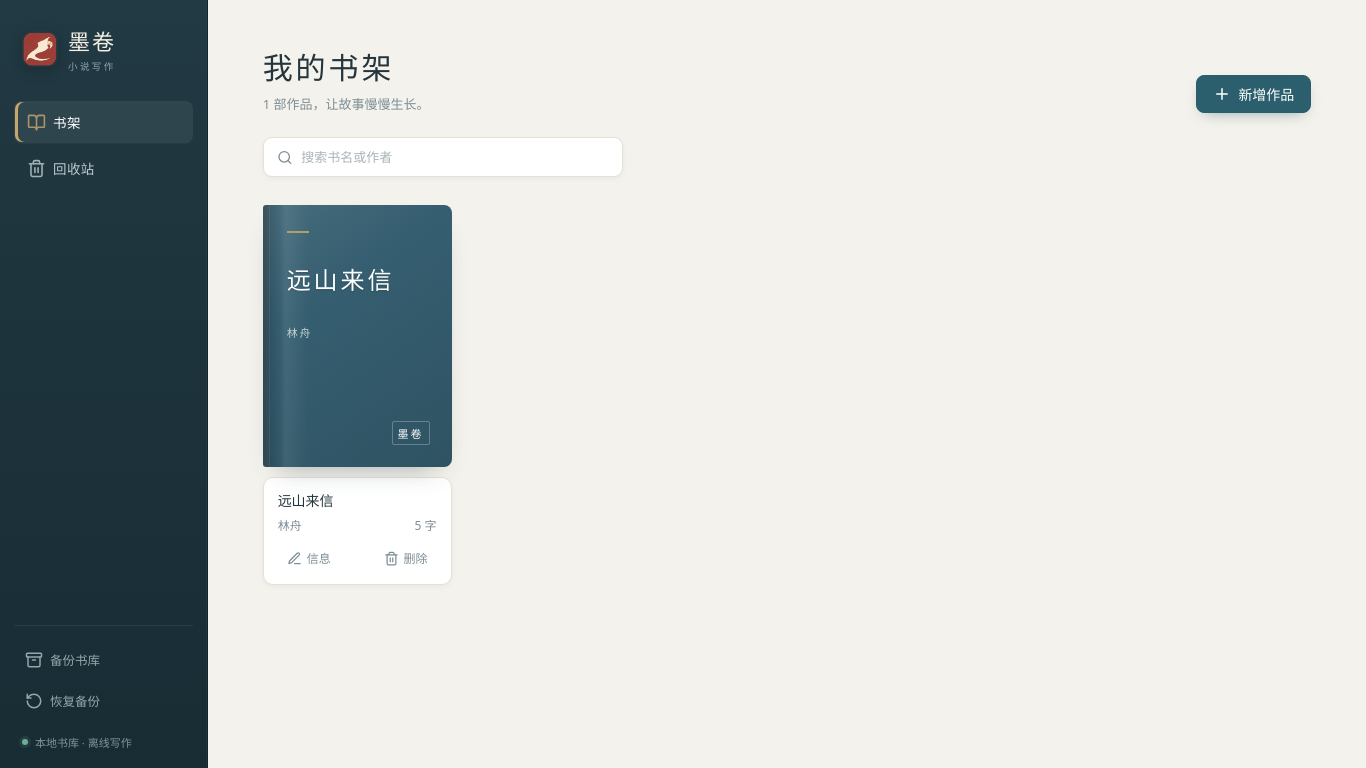
Test: writing workspace › recycling the selected volume hides its chapter editor
Click the button with aria-label "打开 远山来信" at (357, 336), box [263,205,452,467]
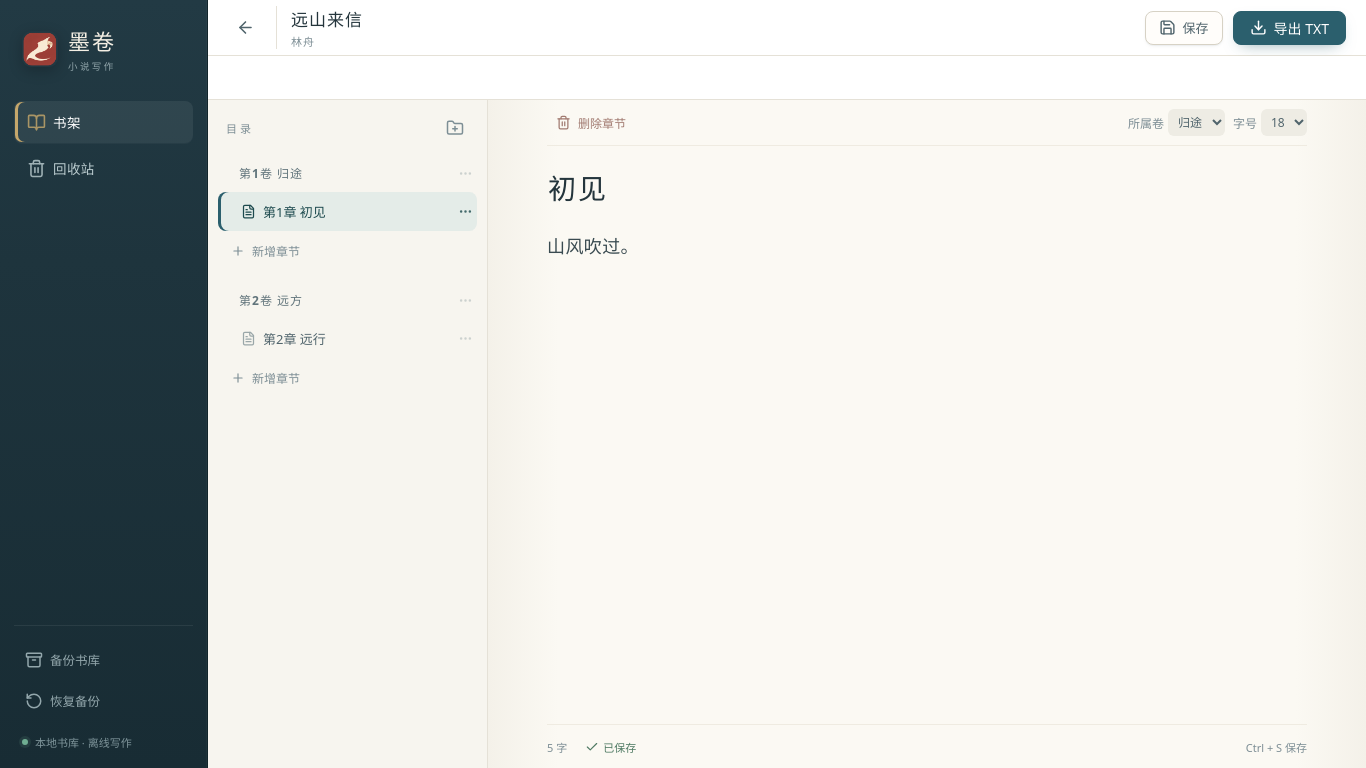
Expected: the text box named "章节正文" is shown, [547,220,1307,724]
Click the button named "卷操作 归途" at (466, 173), box [454,162,477,184]
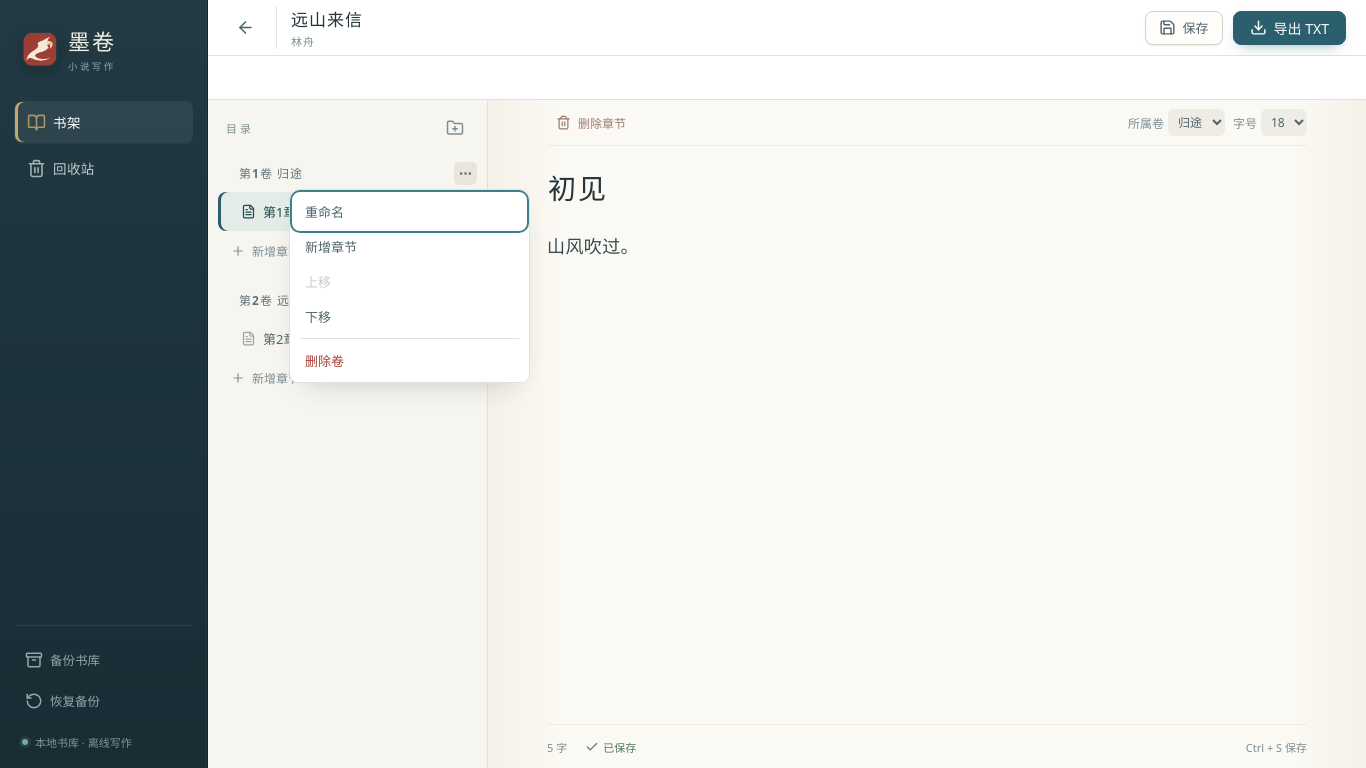
Click the menu item "删除卷" at (410, 360), box [294,342,525,378]
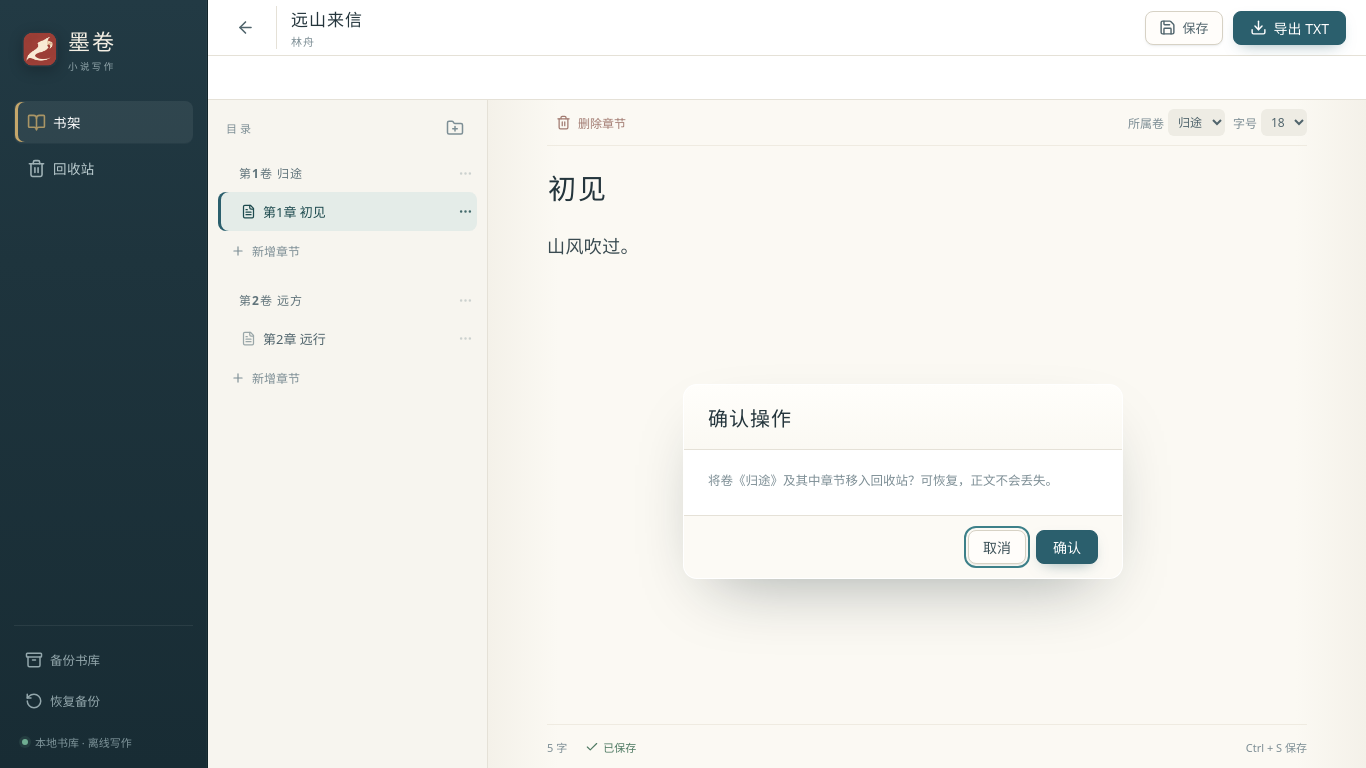
Click the button "确认" at (1067, 547), box [1036,530,1098,564]
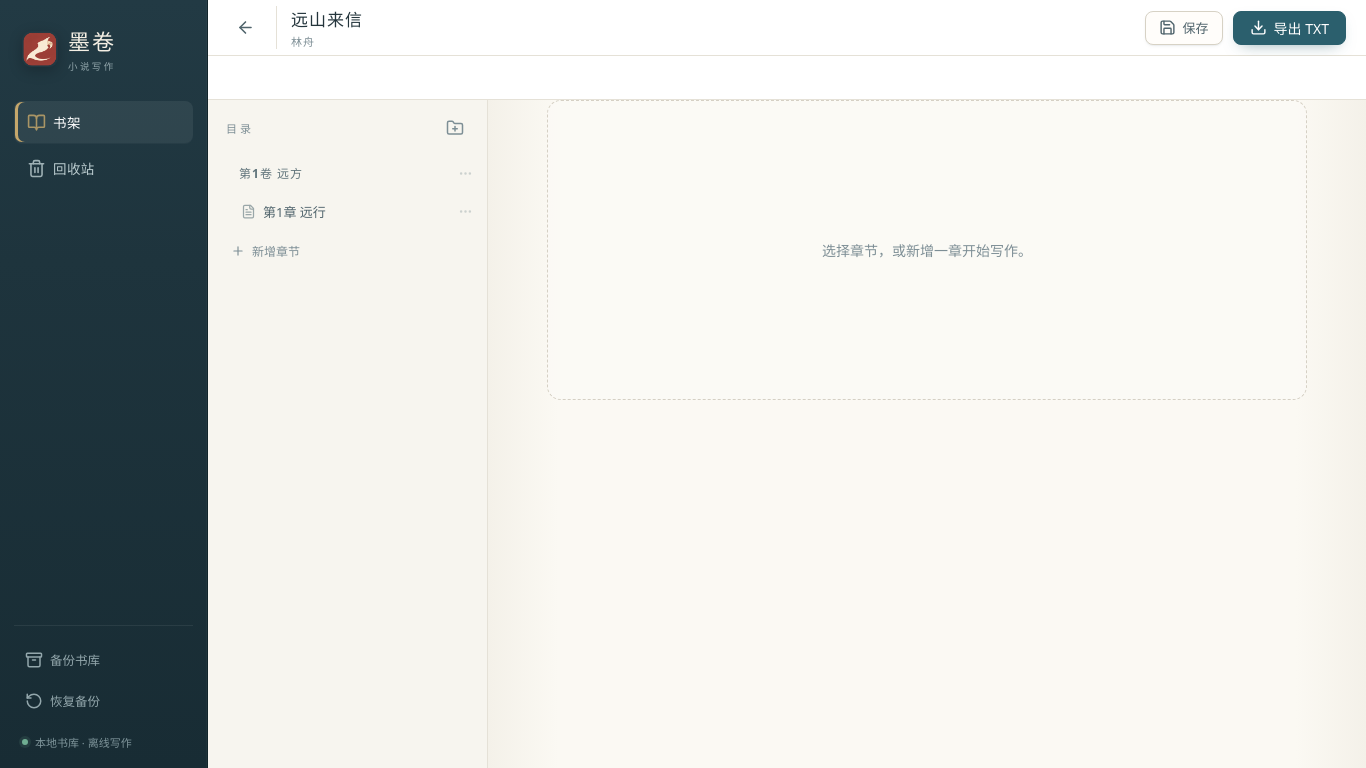
Expected: the text box labelled "章节正文" is gone
Expected: the button "第1章 初见" is gone
Expected: the button "第1章 远行" is shown, [232,192,454,231]
